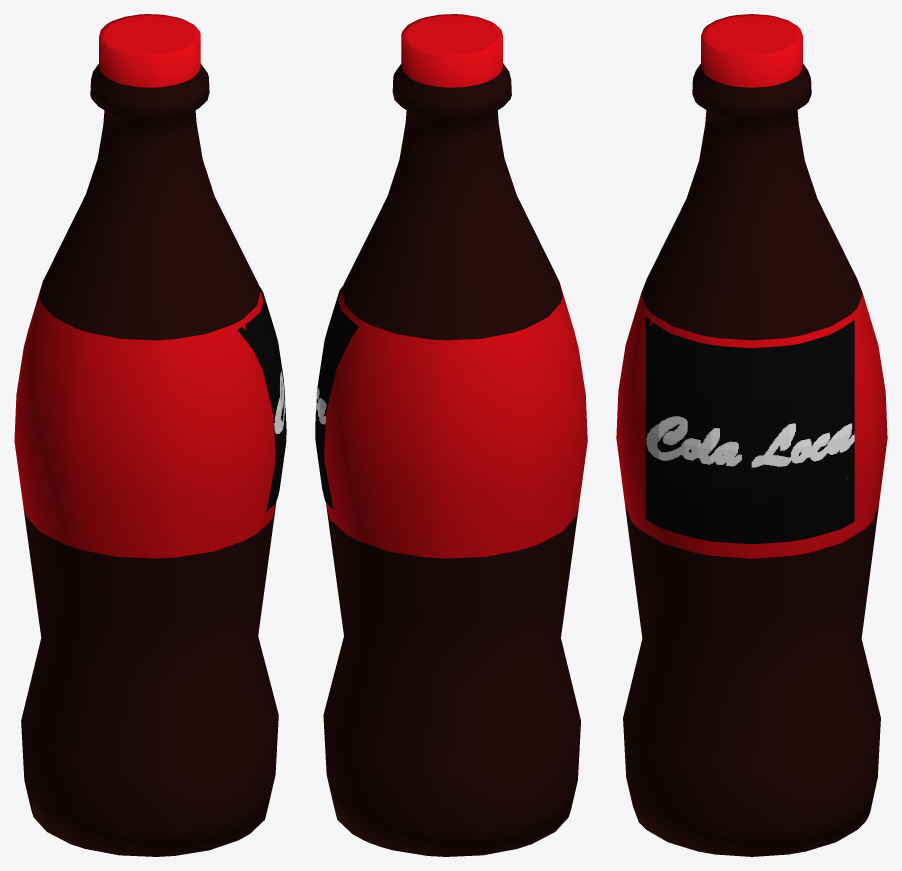
The model's file is Botella de refresco de vidrio 1.fbx.
3 renders of one model, left to right at view 1: azimuth 30°, elevation 25°; view 2: azimuth 150°, elevation 25°; view 3: azimuth 270°, elevation 25°, orthographic.
Visible parts, largest first — view 1: Plane, Marcas Piratas-08; view 2: Plane, Marcas Piratas-08; view 3: Plane, Marcas Piratas-08.
Boxes of the visible parts, x1,y1,x2,y2 form: Plane: (14,14,278,856); Marcas Piratas-08: (237,286,286,511); Plane: (321,14,587,856); Marcas Piratas-08: (315,286,358,509); Plane: (616,14,887,856); Marcas Piratas-08: (645,316,854,544).
Size of the model in its own units: 418 by 1301 by 415.
